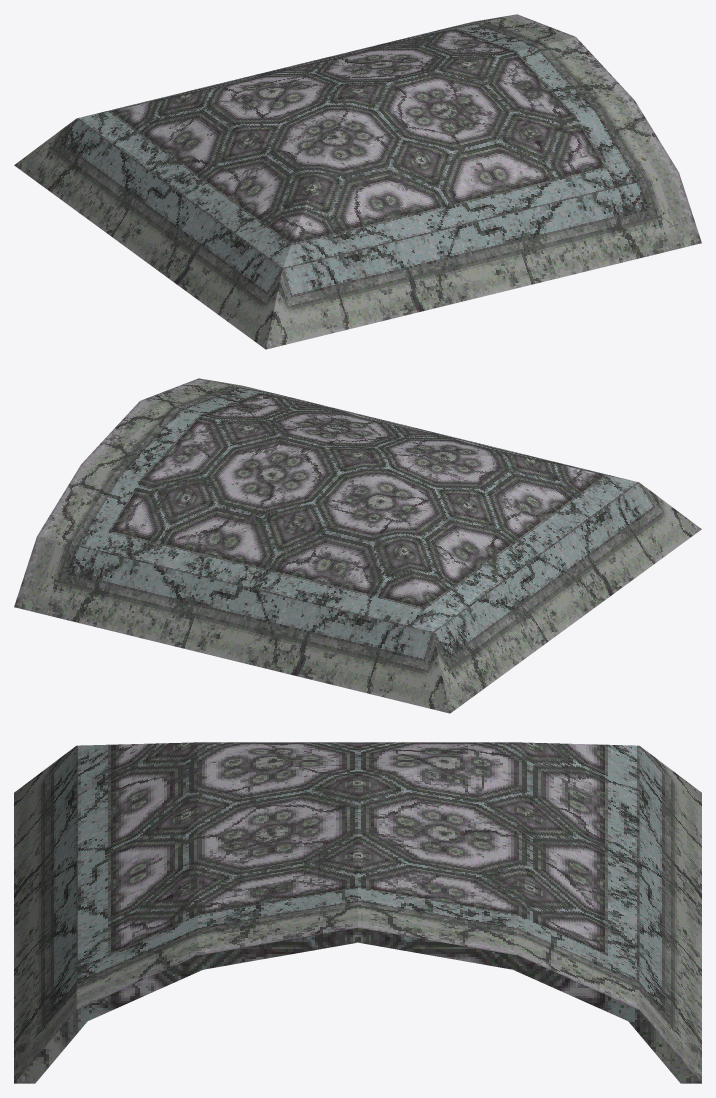
File: roof_set3_01.gltf
3 renders of one model, top to bottom at view 1: azimuth 30°, elevation 25°; view 2: azimuth 150°, elevation 25°; view 3: azimuth 270°, elevation 25°, orthographic. The views are drawn at different scales.
Visible parts, largest first — view 1: roof_set3_01; view 2: roof_set3_01; view 3: roof_set3_01.
Boxes of the visible parts, x1,y1,x2,y2 form: roof_set3_01: [14, 14, 701, 349]; roof_set3_01: [14, 378, 701, 713]; roof_set3_01: [14, 742, 701, 1083].
Bounding box in the file's own units: 4 × 1 × 4.
Materials: 1 (1 with a texture image).
